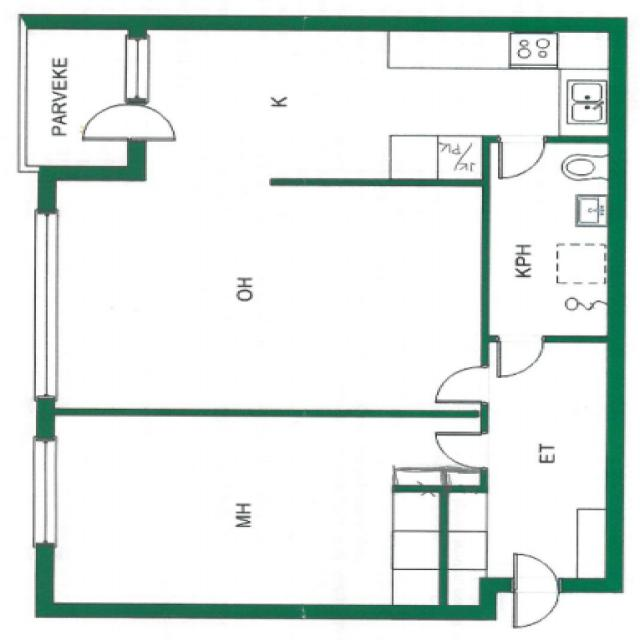door: (513, 539, 561, 592), (513, 578, 561, 631), (130, 104, 190, 139), (87, 104, 147, 139), (499, 335, 545, 378), (437, 429, 490, 465), (437, 366, 490, 402), (501, 135, 543, 176)
